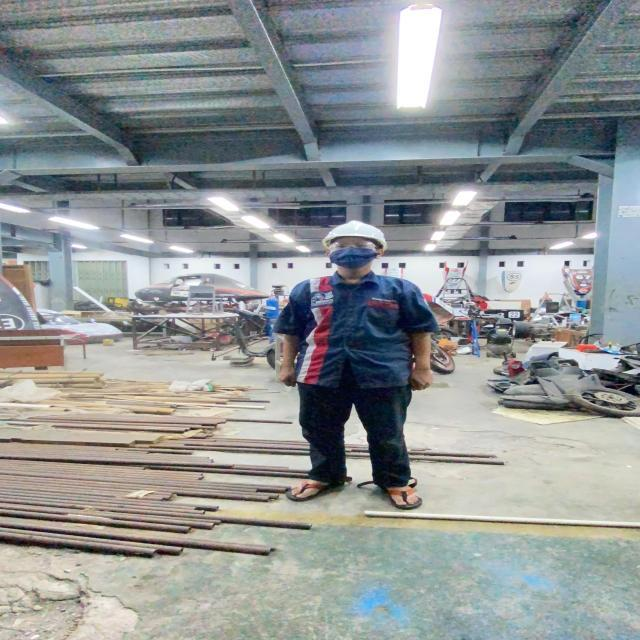glasses: (325, 240, 380, 252)
